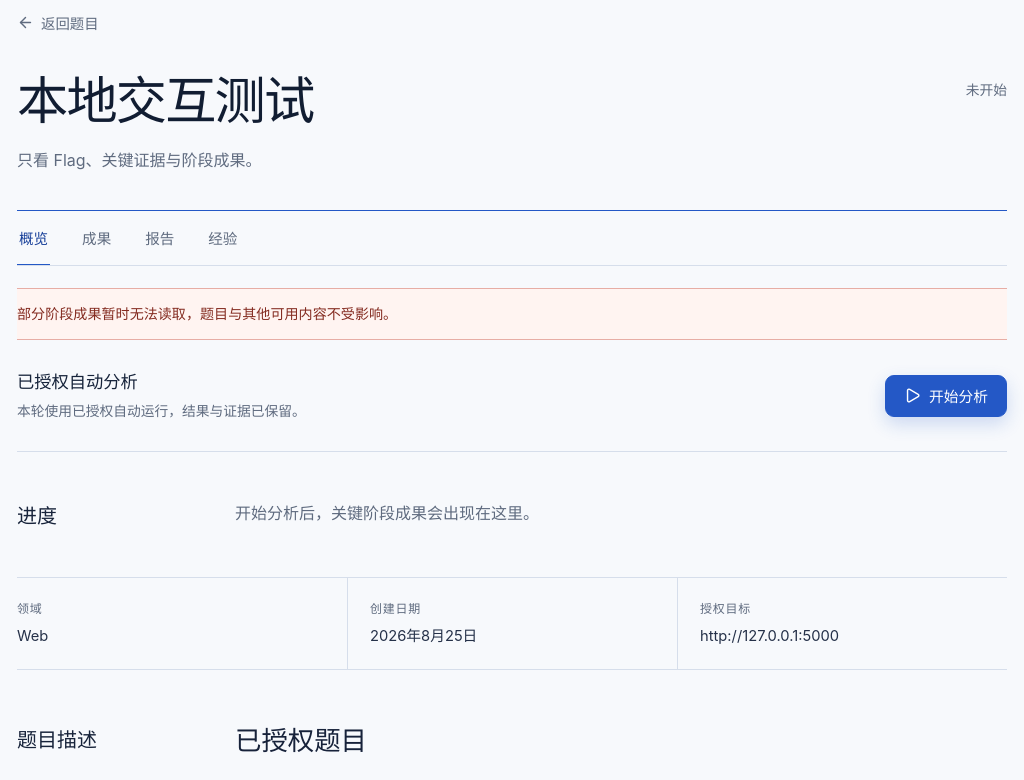
Scenario: ChallengeDetailPage › shows an honest per-section failure without hiding successful sections
expect the message "部分阶段成果暂时无法读取，题目与其他可用内容不受影响。" is shown: met, box x1=17 y1=288 x2=1007 y2=340
Click the tab "成果". click: coordinates (97, 238)
box: x1=80 y1=211 x2=113 y2=265
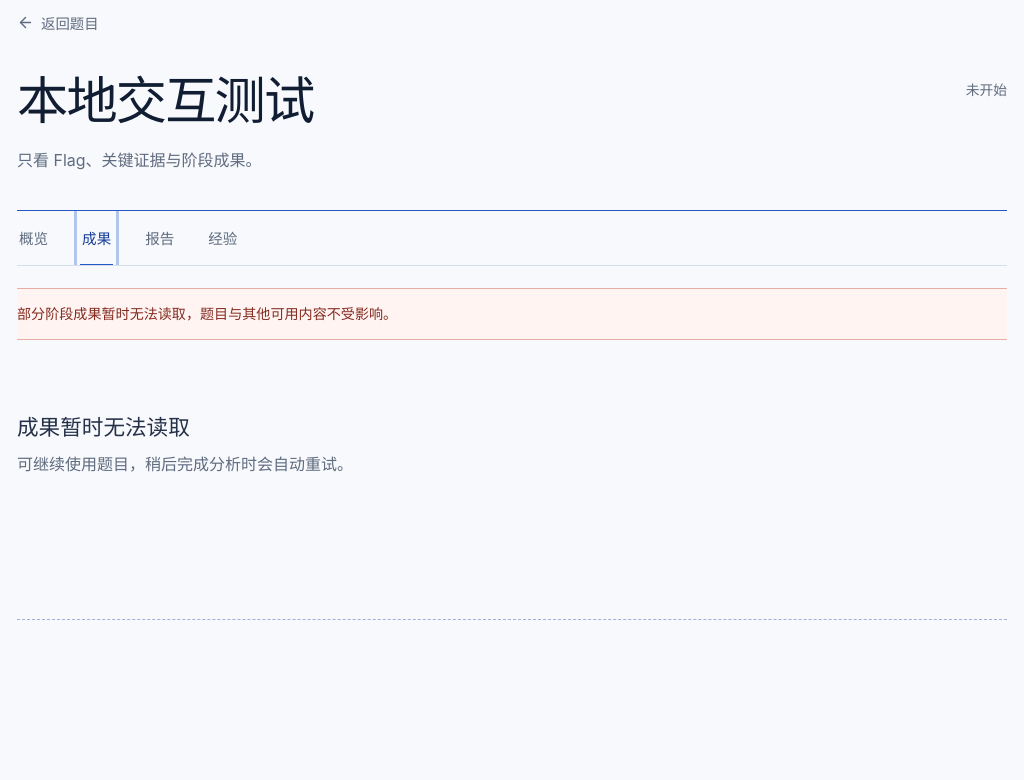
expect the text "成果暂时无法读取" is shown: met, box x1=17 y1=416 x2=190 y2=440
Click the tab "报告". click: coordinates (160, 238)
box: x1=143 y1=211 x2=176 y2=265
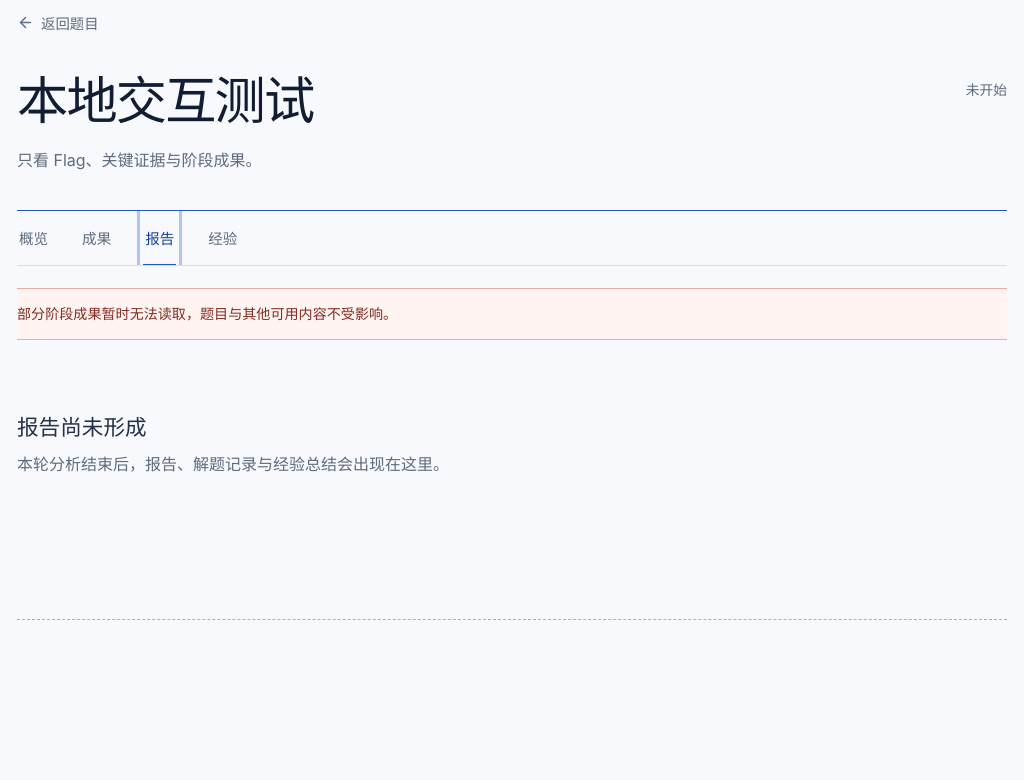
expect the text "报告尚未形成" is shown: met, box x1=17 y1=416 x2=147 y2=440
Click the tab "经验". click: coordinates (223, 238)
box: x1=206 y1=211 x2=239 y2=265
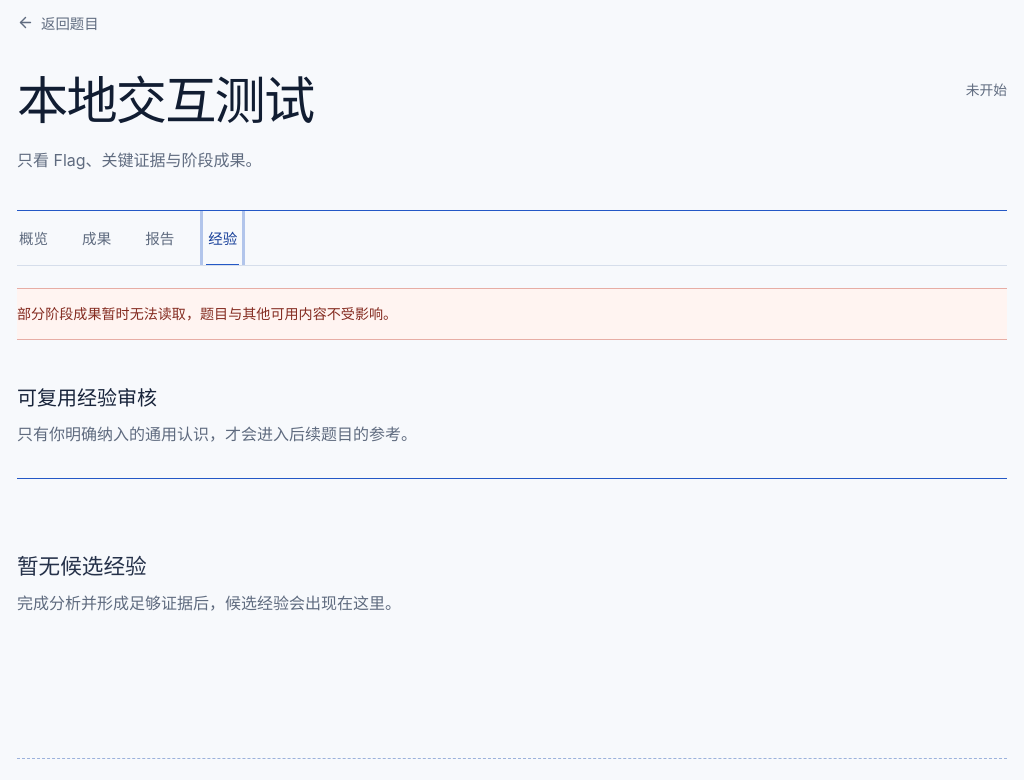
expect the text "暂无候选经验" is shown: met, box x1=17 y1=556 x2=147 y2=580
